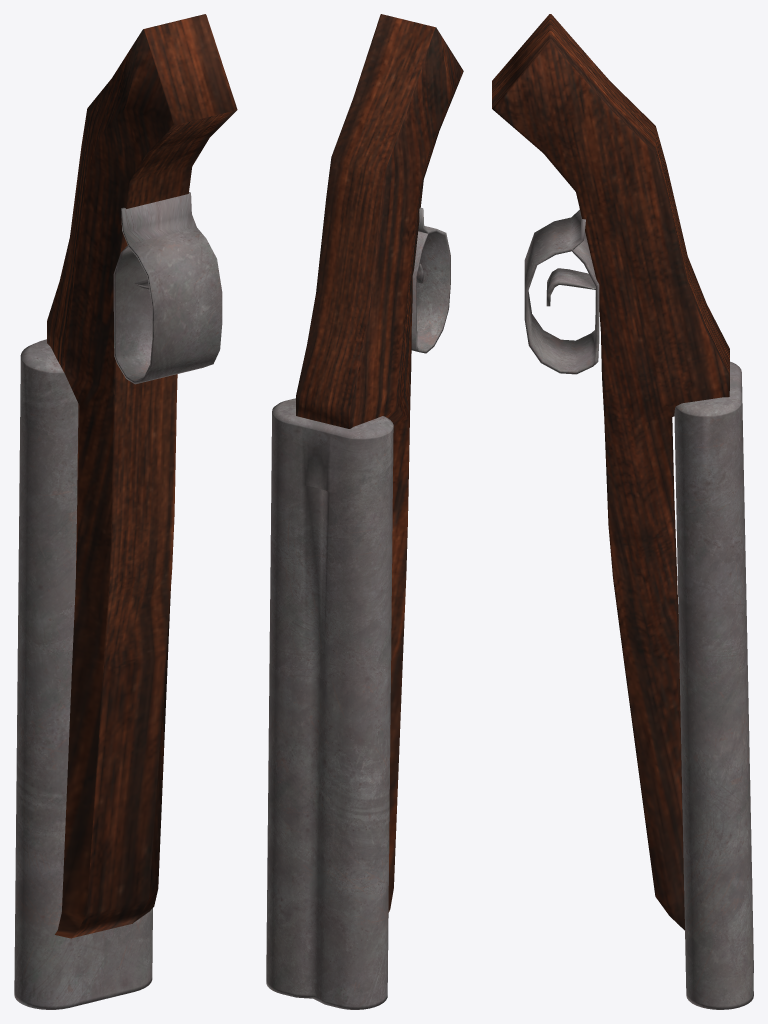
Rendered from doublebarrel.dae.
3 views of the same model, side by side, from view 1: azimuth 30°, elevation 25°; view 2: azimuth 150°, elevation 25°; view 3: azimuth 270°, elevation 25° (orthographic). The views are drawn at different scales.
Visible parts, largest first — view 1: Shotgun.001, Barrel+Release.001; view 2: Barrel+Release.001, Shotgun.001; view 3: Shotgun.001, Barrel+Release.001.
Part boxes in pixels (x1,y1,x2,y2): Shotgun.001: (47,14,237,938); Barrel+Release.001: (14,192,222,1009); Barrel+Release.001: (266,208,450,1009); Shotgun.001: (296,14,463,912); Shotgun.001: (492,14,729,930); Barrel+Release.001: (524,209,753,1009).
Size of the model in its own units: 0.5479 by 1.05 by 4.21.
2 materials, 2 textured.
